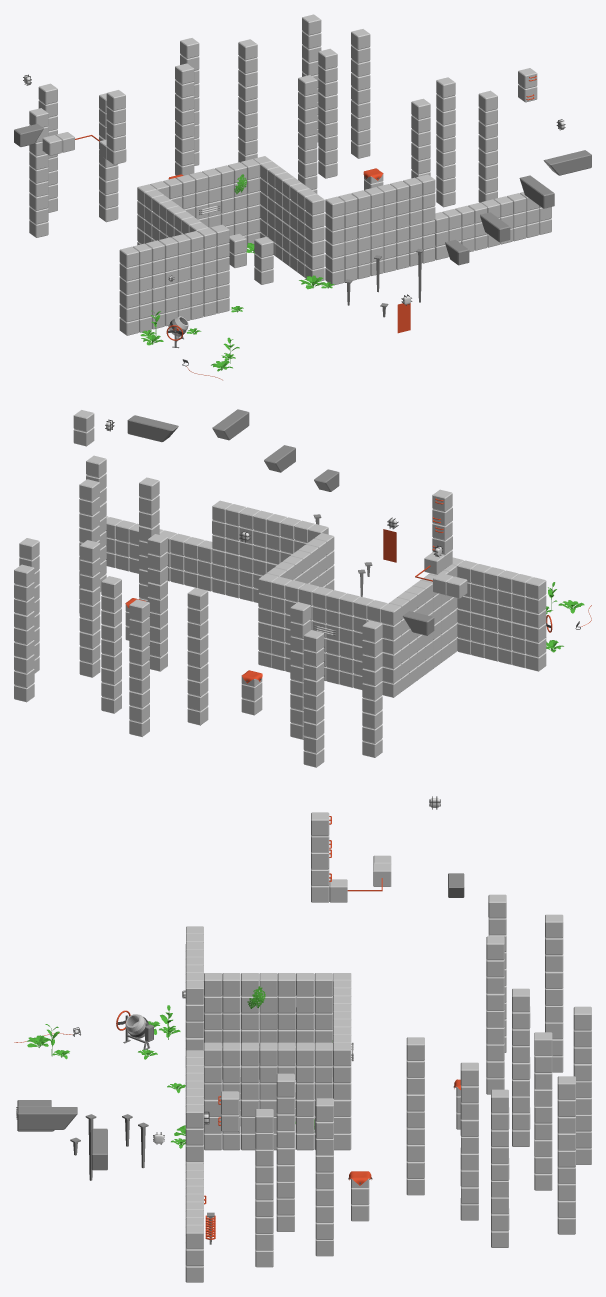
The model's file is map.fbx.
3 renders of one model, top to bottom at view 1: azimuth 30°, elevation 25°; view 2: azimuth 150°, elevation 25°; view 3: azimuth 270°, elevation 25°, orthographic. The views are drawn at different scales.
Visible parts, largest first — view 1: Props; view 2: Props; view 3: Props.
Boxes of the visible parts, <box> form: Props: <box>14,14,591,380</box>; Props: <box>14,409,591,767</box>; Props: <box>14,796,591,1282</box>.
Bounding box in the file's own units: 3024 × 1295 × 2857.
